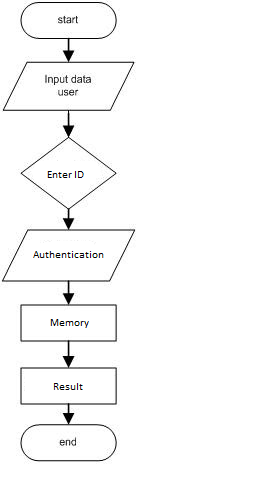arrow: (59, 110, 78, 138), (59, 338, 78, 366), (58, 36, 76, 61), (58, 402, 75, 424), (60, 281, 75, 305), (60, 205, 74, 230)
data: (0, 226, 138, 283), (1, 60, 132, 115)
decision: (17, 134, 118, 208)
process: (17, 301, 120, 344), (17, 366, 117, 406)
terminator: (19, 422, 119, 463), (17, 0, 118, 39)
text: (41, 73, 94, 97), (31, 248, 105, 260), (47, 317, 92, 328), (46, 168, 86, 180), (51, 380, 87, 391), (52, 13, 79, 24), (56, 436, 77, 447)
